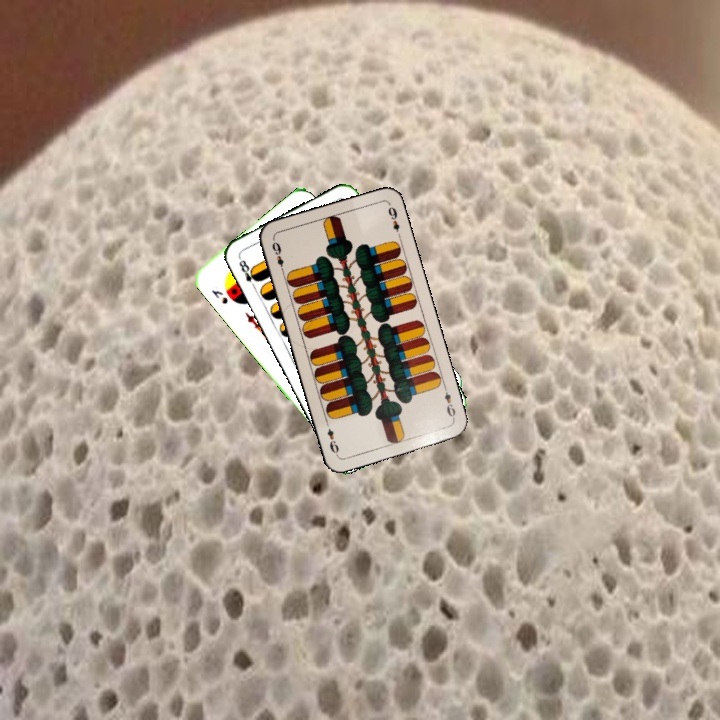E8: (235, 256, 263, 292)
E9: (268, 238, 287, 276), (440, 382, 458, 422)
SK: (207, 286, 231, 307)
